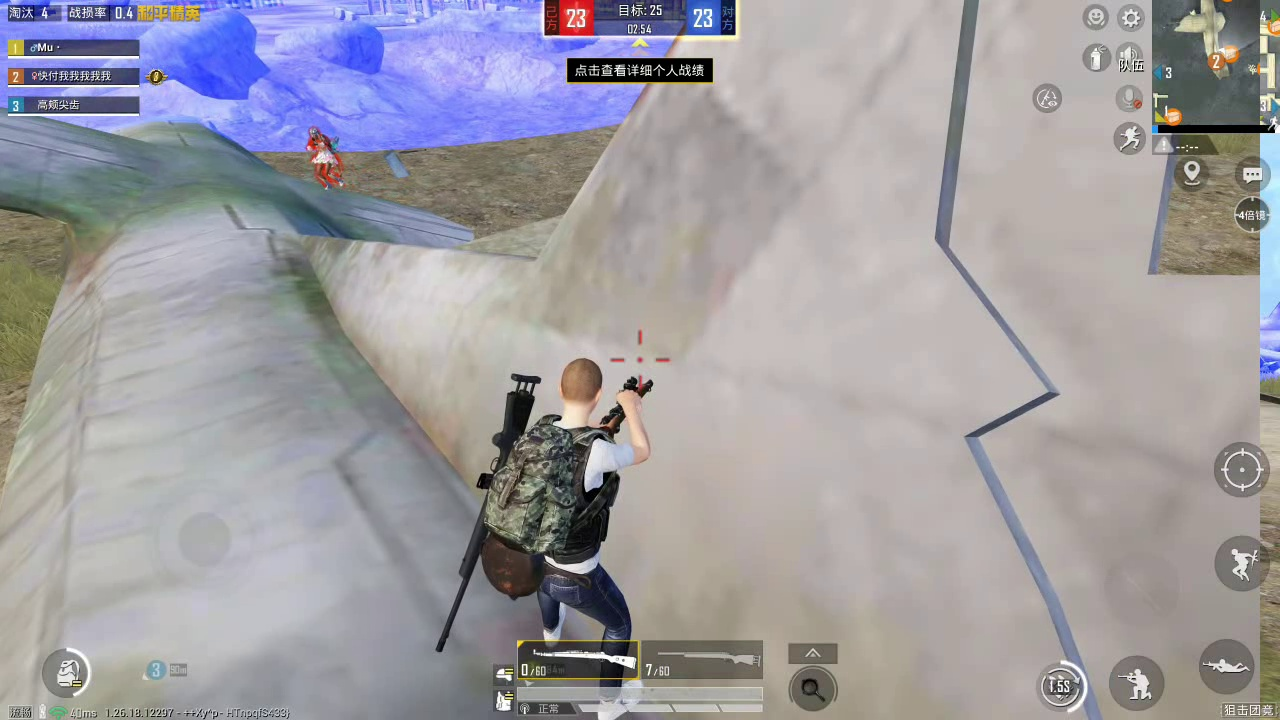enemy: (305, 125, 347, 190)
